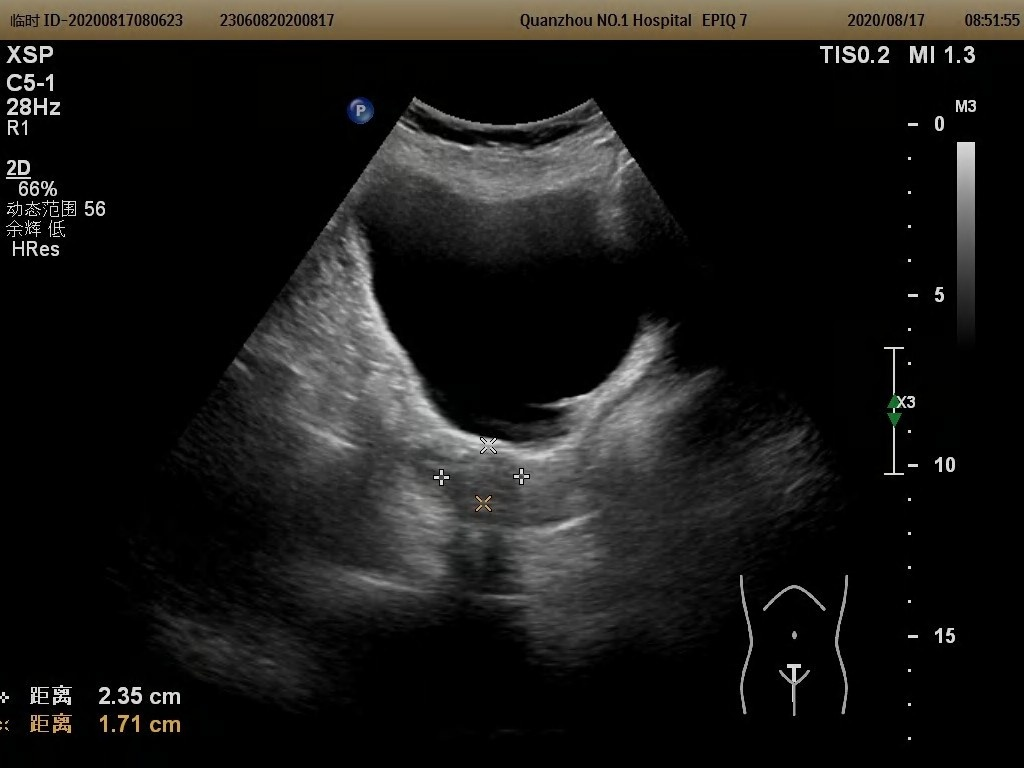肌瘤: (441, 444, 525, 503)
